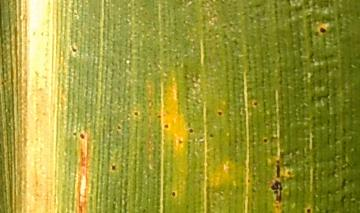tarspot: (269, 179, 285, 203), (273, 160, 283, 179), (317, 24, 328, 38), (69, 43, 79, 56), (108, 163, 119, 173), (186, 125, 196, 136), (161, 122, 171, 132), (78, 131, 86, 143), (252, 99, 260, 111), (215, 108, 224, 118), (132, 109, 142, 118), (260, 135, 270, 144), (170, 188, 178, 199), (305, 207, 314, 213)
